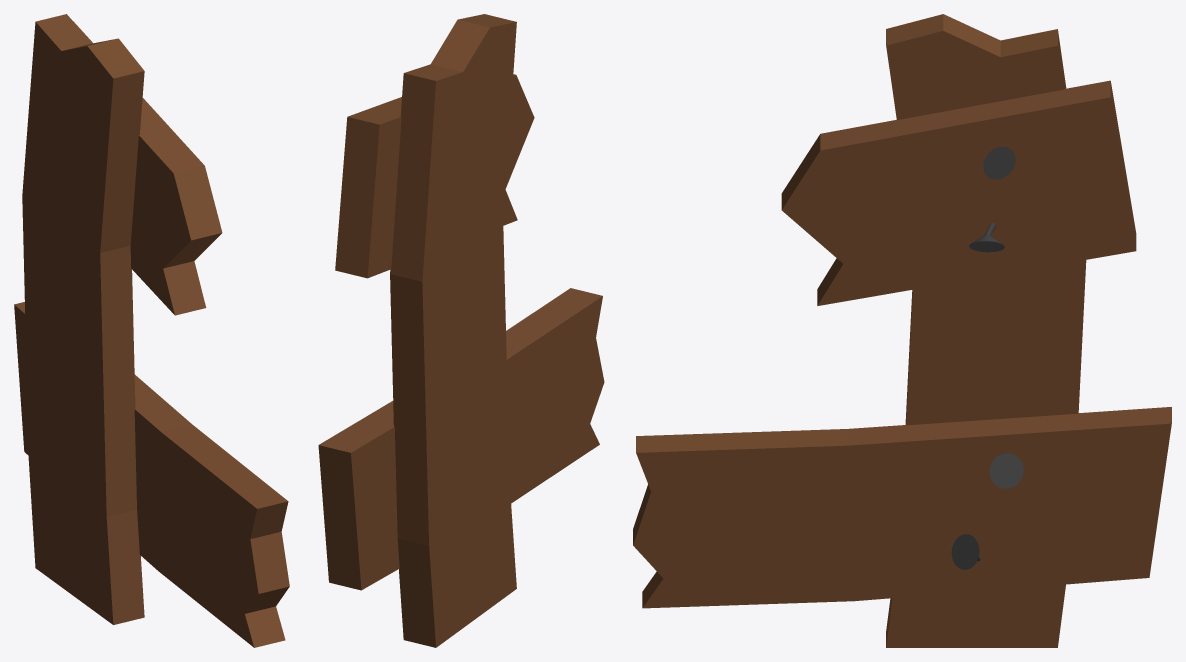
File: ZaborR.fbx
The picture shows the model from 3 angles, left to right: view 1: azimuth 30°, elevation 25°; view 2: azimuth 150°, elevation 25°; view 3: azimuth 270°, elevation 25°; orthographic projection. The views are drawn at different scales.
Visible parts, largest first — view 1: ZaborR; view 2: ZaborR; view 3: ZaborR.
Boxes of the visible parts, bbox=[...] form: ZaborR: bbox=[14, 14, 289, 647]; ZaborR: bbox=[318, 14, 604, 647]; ZaborR: bbox=[633, 14, 1171, 647].
Bounding box in the file's own units: 28.59 × 186 × 147.
